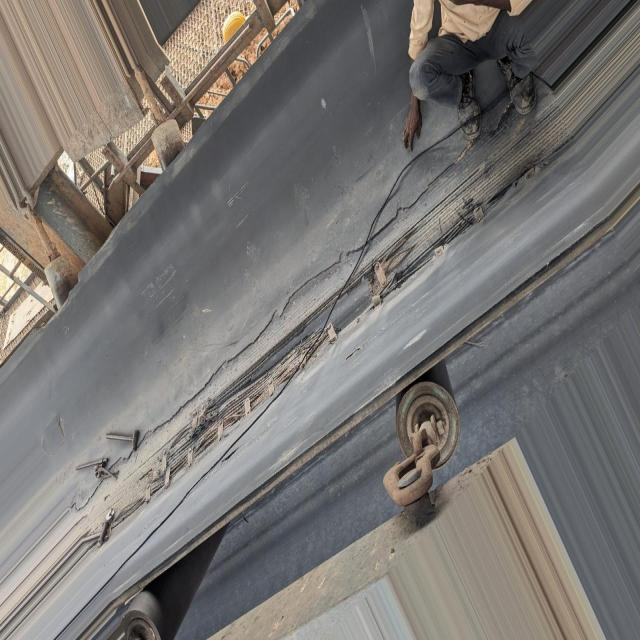Human: (401, 0, 538, 148)
Other Objects: (71, 418, 141, 493)
Roller: (128, 530, 221, 640), (396, 365, 460, 468), (148, 118, 191, 173), (39, 248, 79, 302)
Tear: (86, 157, 518, 535), (208, 285, 376, 408)
